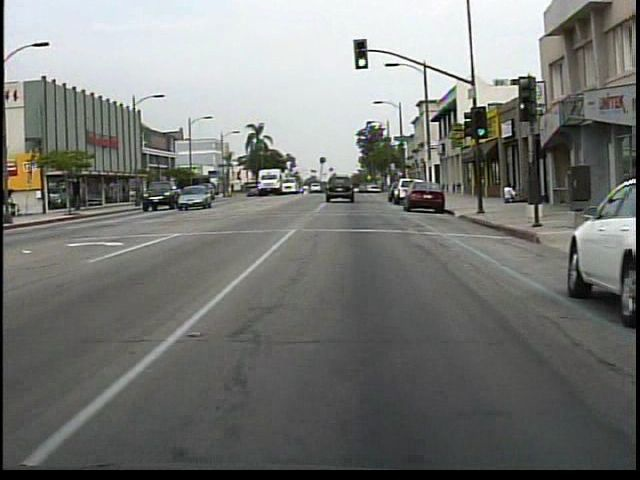person: (498, 181, 515, 205)
